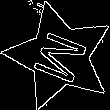M_E: (26, 25, 93, 87)
